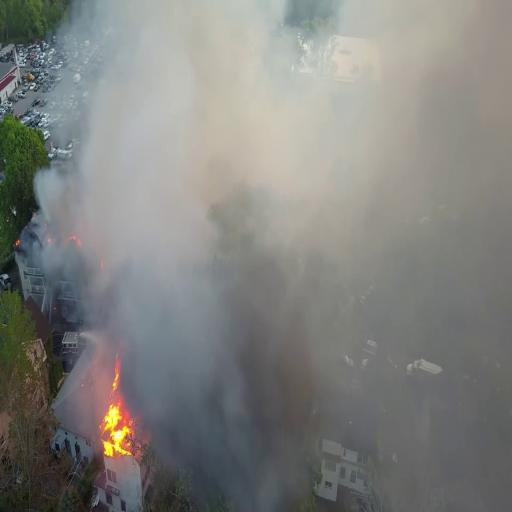fire: (96, 364, 132, 461)
smoke: (110, 93, 350, 198), (215, 218, 280, 424)
